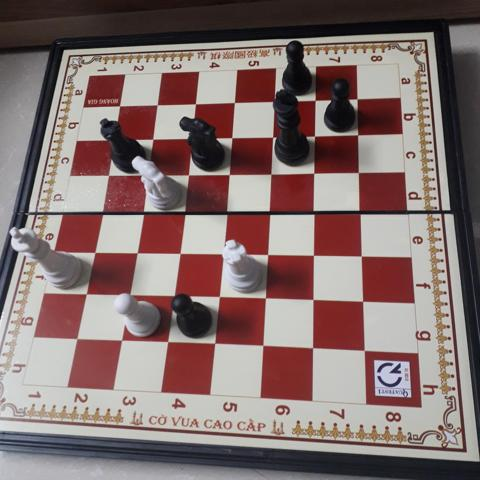xcorner: (148, 96, 165, 113), (111, 97, 128, 114), (306, 126, 323, 143), (105, 130, 122, 147), (138, 165, 155, 182), (305, 203, 322, 220), (260, 203, 277, 220), (132, 203, 149, 220), (258, 245, 275, 262), (213, 244, 230, 261), (126, 243, 143, 260), (304, 291, 321, 308), (164, 287, 181, 304), (120, 286, 137, 303), (355, 342, 372, 359), (307, 91, 323, 108), (266, 92, 282, 109), (186, 95, 203, 111), (350, 125, 366, 142), (264, 127, 280, 144), (143, 130, 160, 146), (351, 163, 367, 180), (306, 163, 322, 180), (262, 164, 279, 180), (220, 164, 236, 181), (178, 165, 195, 181), (352, 203, 368, 220), (217, 203, 233, 220), (174, 203, 190, 220), (353, 246, 369, 263), (169, 244, 186, 260), (354, 293, 371, 309), (256, 290, 273, 306), (77, 285, 94, 301), (304, 340, 320, 357), (254, 338, 271, 354), (113, 332, 130, 348), (69, 330, 85, 347), (349, 90, 365, 106), (226, 94, 242, 110), (223, 128, 239, 144), (183, 129, 199, 145), (99, 166, 115, 182), (92, 203, 108, 219), (305, 246, 321, 262), (85, 243, 101, 259), (210, 289, 226, 305), (206, 336, 222, 352), (159, 334, 175, 350)
